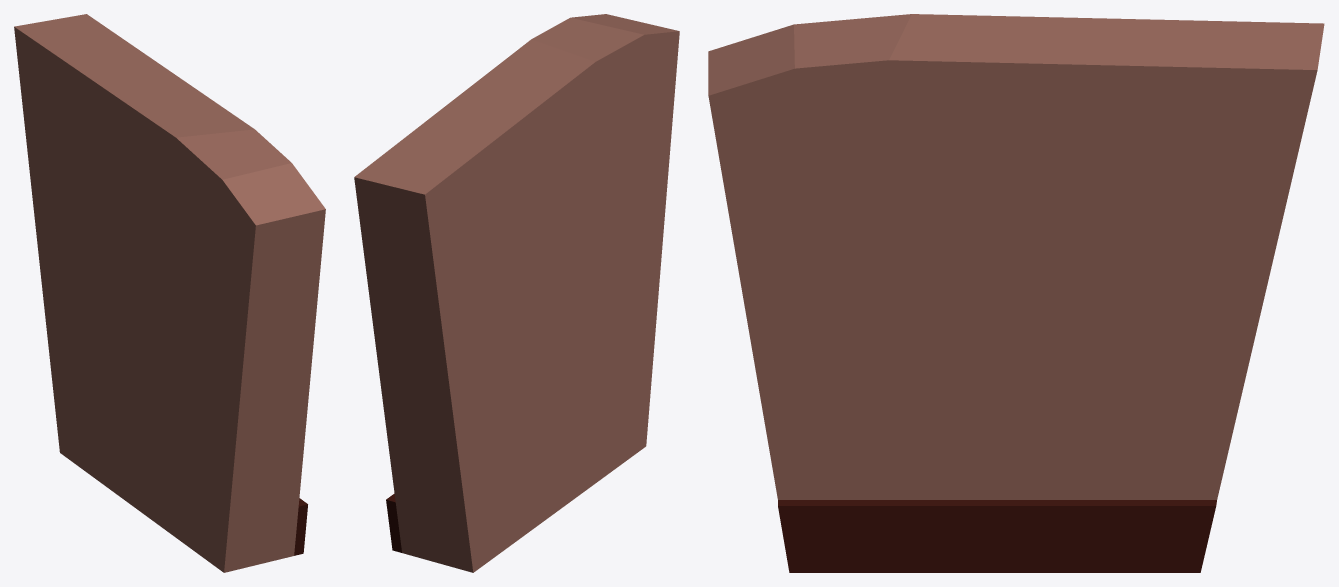
The model's file is T_MurDetruit_6.5.fbx.
3 renders of one model, left to right at view 1: azimuth 30°, elevation 25°; view 2: azimuth 150°, elevation 25°; view 3: azimuth 270°, elevation 25°, orthographic. The views are drawn at different scales.
Parts seen in each view (by area): view 1: T_MurDetruit_6.5; view 2: T_MurDetruit_6.5; view 3: T_MurDetruit_6.5.
Part boxes in pixels (x1=…): T_MurDetruit_6.5: x1=14, y1=14, x2=325, y2=572; T_MurDetruit_6.5: x1=354, y1=14, x2=679, y2=572; T_MurDetruit_6.5: x1=708, y1=14, x2=1324, y2=572.
Bounding box in the file's own units: 15.31 × 73.63 × 80.69.
